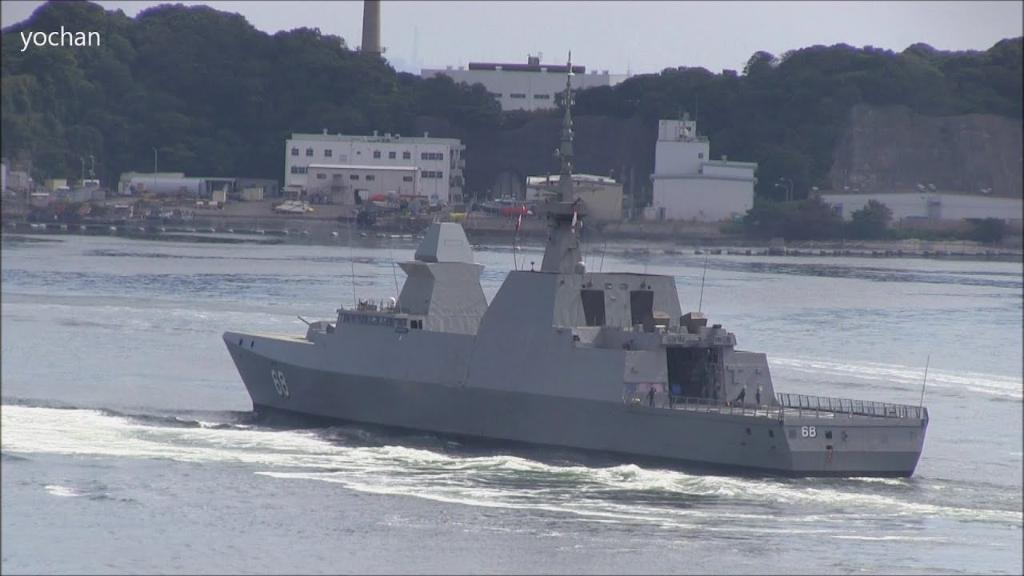Warship: (212, 66, 938, 474)
